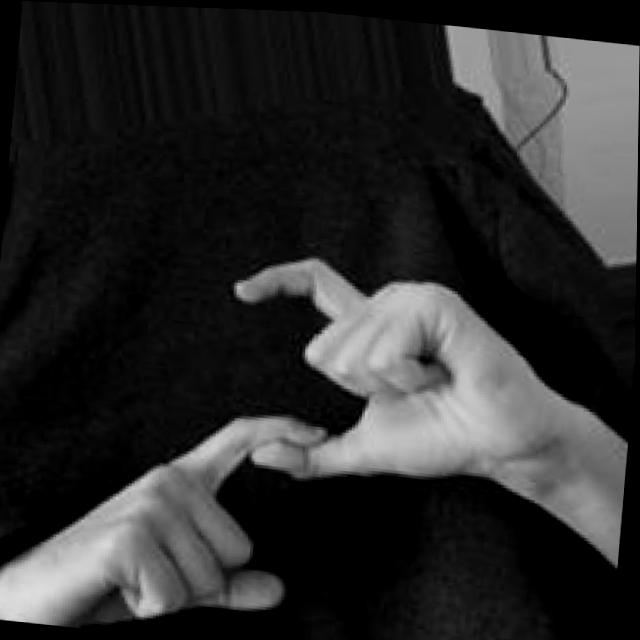S: (0, 218, 560, 640)
